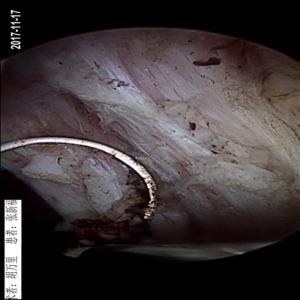film: (73, 46, 296, 230)
